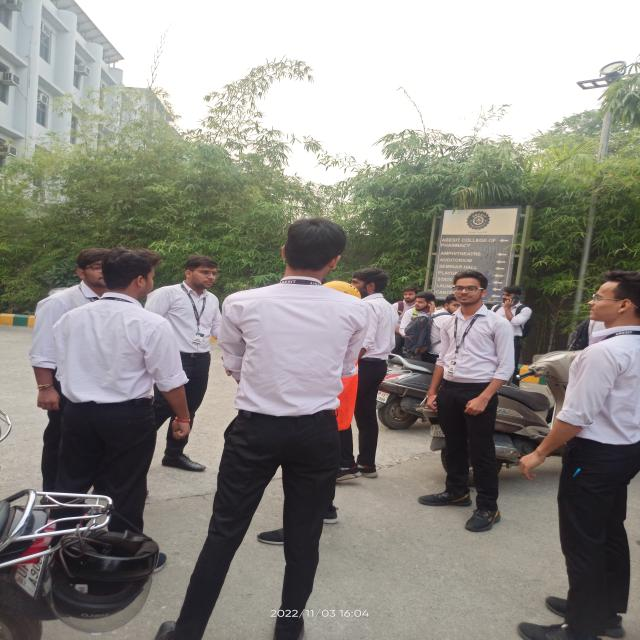unsafe: (153, 214, 367, 640), (44, 249, 188, 581), (518, 268, 640, 640), (424, 271, 516, 530), (143, 254, 222, 477), (337, 270, 398, 479), (488, 285, 531, 390)
